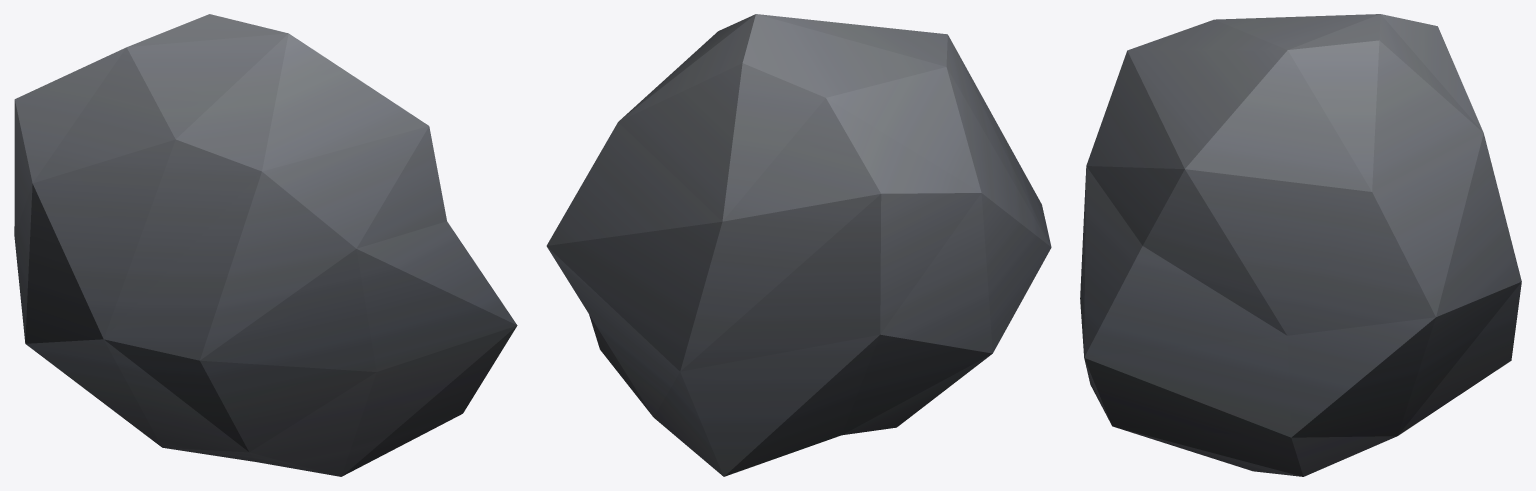
Rendered from IronResource1.glb.
The picture shows the model from 3 angles, left to right: view 1: azimuth 30°, elevation 25°; view 2: azimuth 150°, elevation 25°; view 3: azimuth 270°, elevation 25°; orthographic projection. The views are drawn at different scales.
Visible parts, largest first — view 1: IronResource1; view 2: IronResource1; view 3: IronResource1.
Boxes of the visible parts, bbox=[...] form: IronResource1: bbox=[14, 14, 517, 476]; IronResource1: bbox=[546, 14, 1051, 476]; IronResource1: bbox=[1080, 14, 1521, 476].
Size of the model in its own units: 0.2643 by 0.2351 by 0.243.
1 material, 1 textured.
